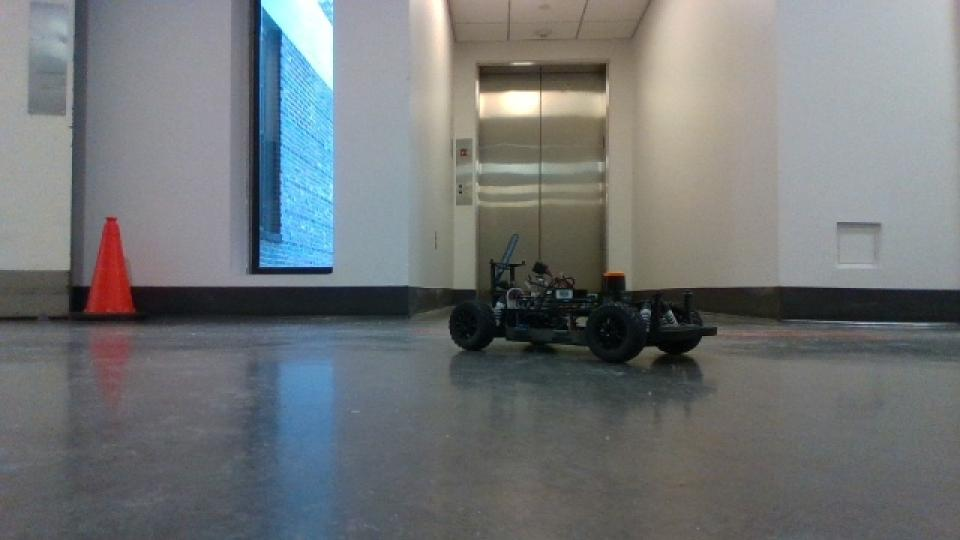car: (446, 231, 720, 366)
